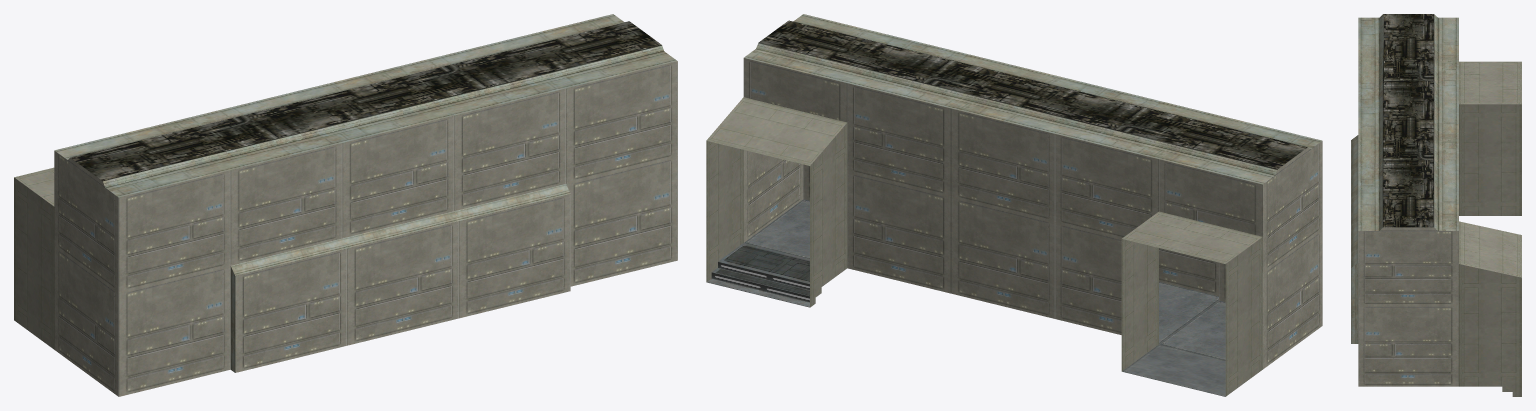
The model's file is thm_tato_fallen_star_r1_foyer01_mesh_r1.fbx.
3 renders of one model, left to right at view 1: azimuth 30°, elevation 25°; view 2: azimuth 150°, elevation 25°; view 3: azimuth 270°, elevation 25°, orthographic. The views are drawn at different scales.
Parts seen in each view (by area): view 1: mesh_node; view 2: mesh_node; view 3: mesh_node.
Boxes of the visible parts, box(x1,y1,x2,y2) form: mesh_node: box(14, 14, 677, 396); mesh_node: box(706, 14, 1322, 396); mesh_node: box(1351, 14, 1521, 396).
Size of the model in its own units: 15 by 5.56 by 5.08.
